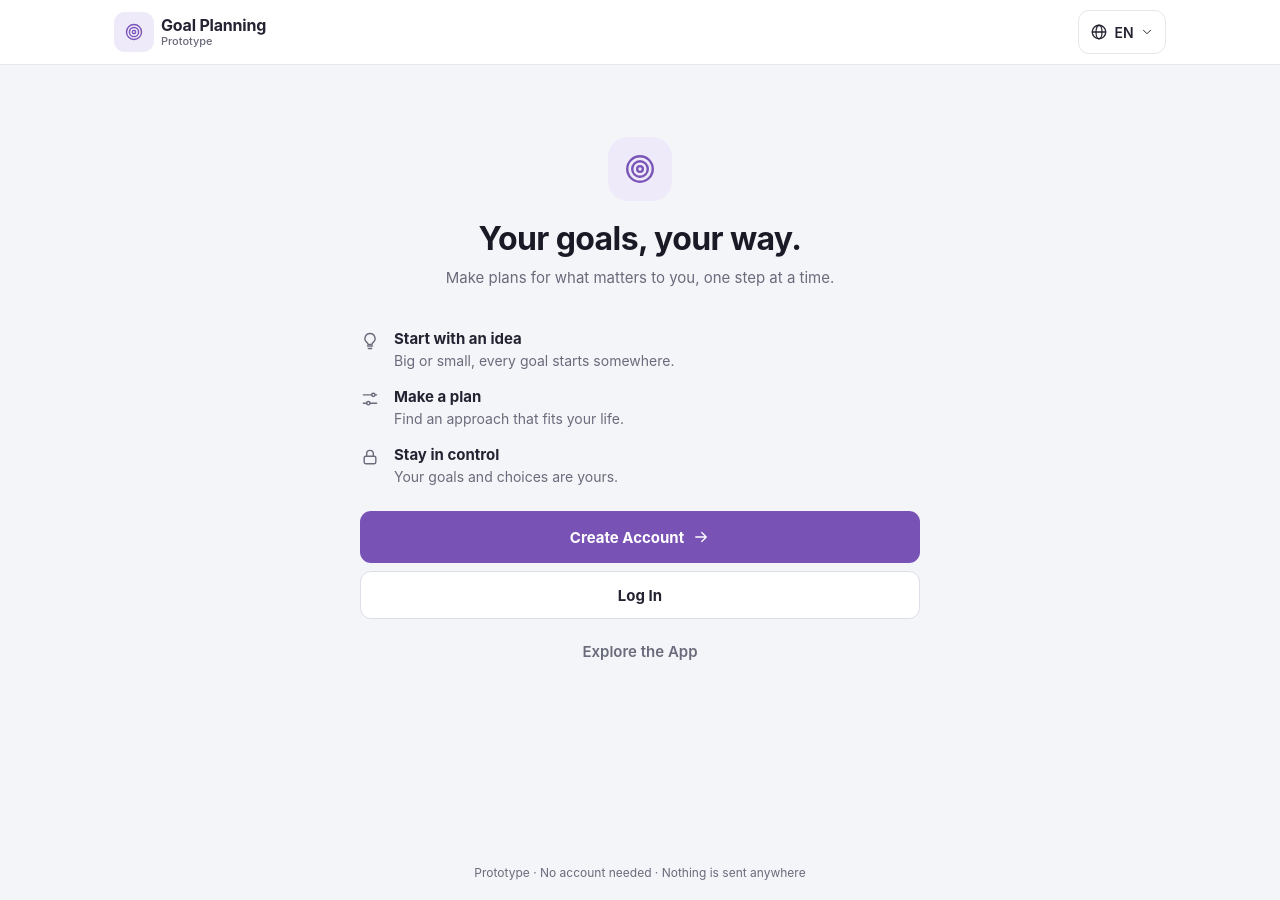
Test case: Bills calendar › says an unknown amount is left out of the totals, and never shows it as 0
Click the button "Explore the App".
click(640, 651)  # box x1=360 y1=627 x2=920 y2=675
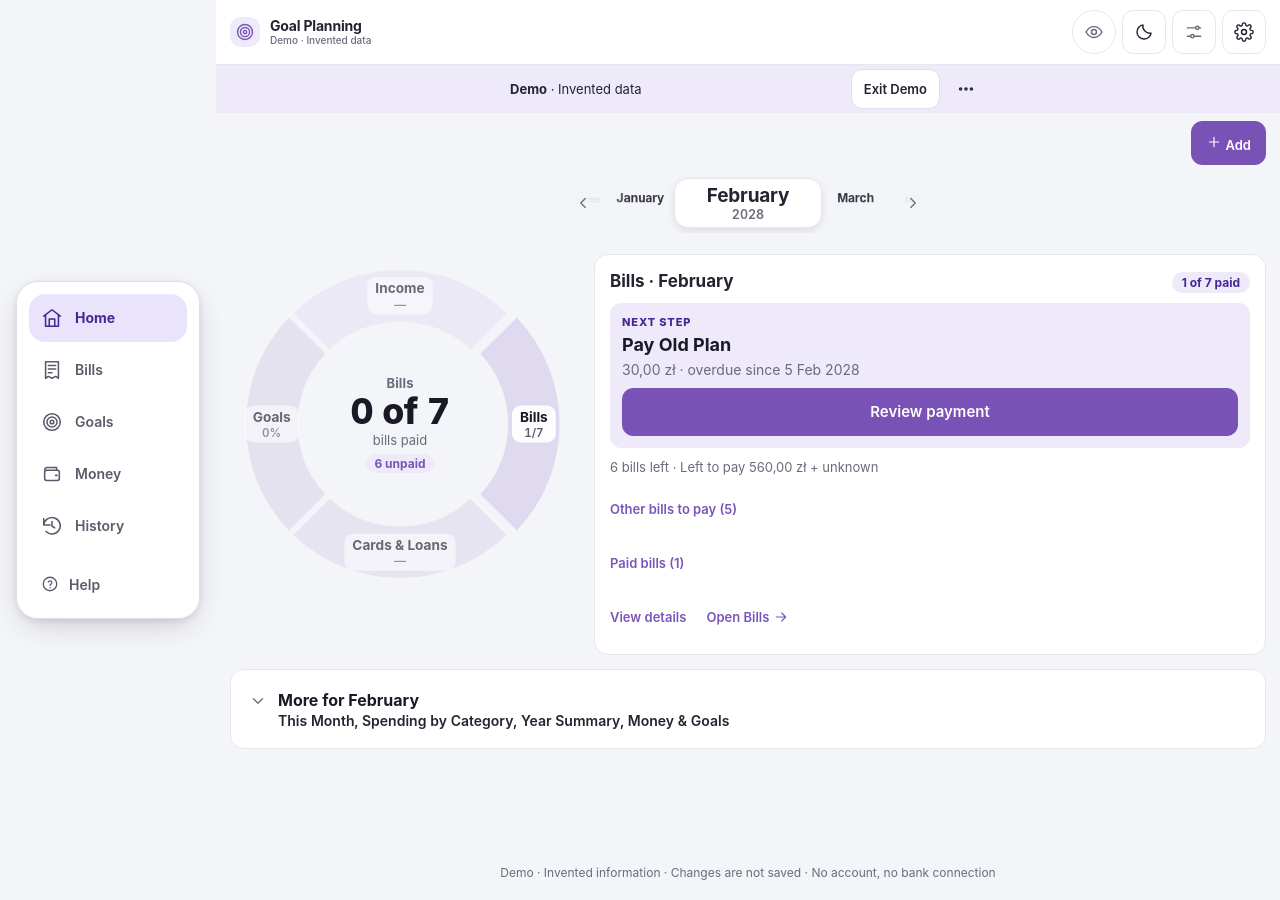
Click the button "Bills".
click(108, 370)  # box x1=29 y1=346 x2=187 y2=394
(page scrolled)
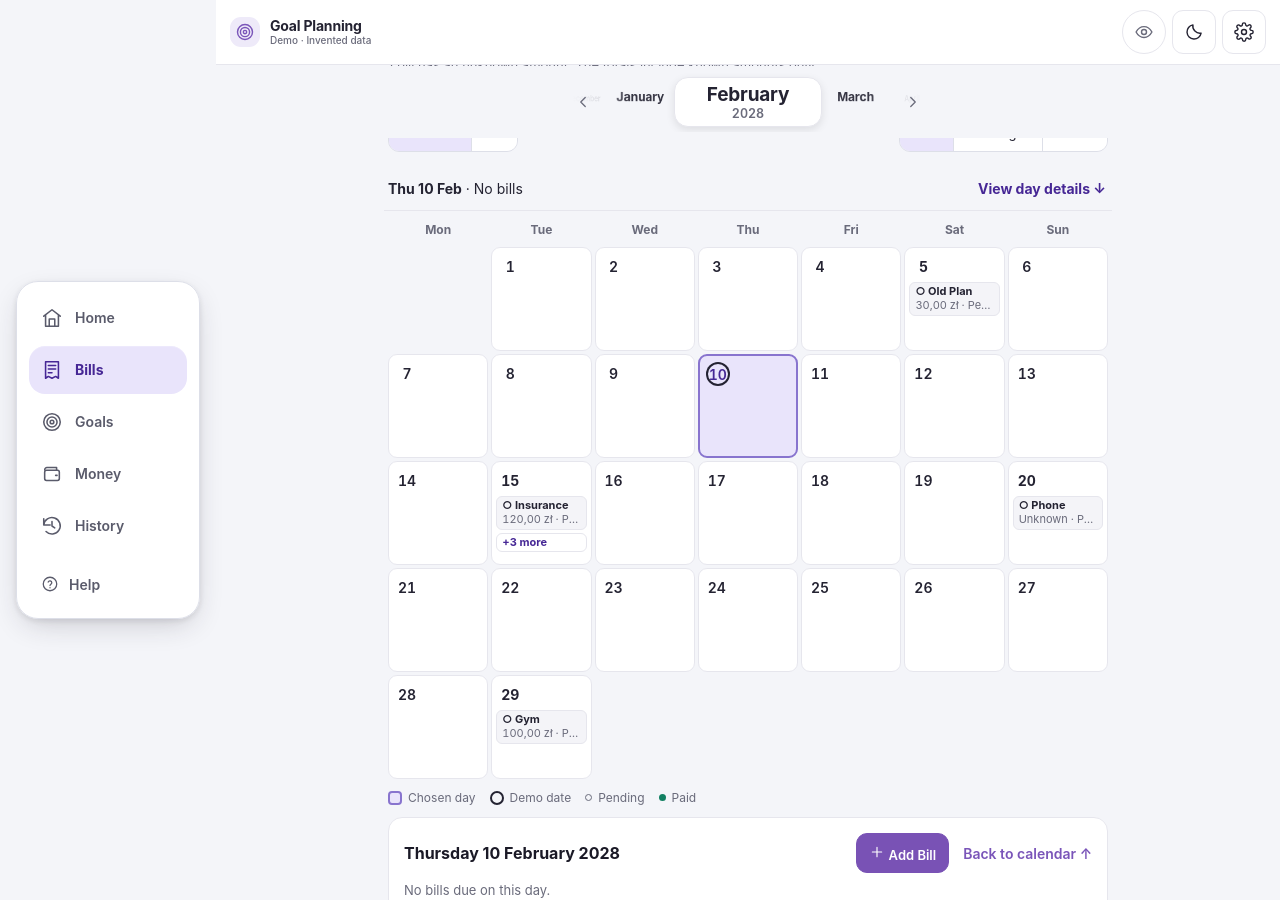
Check: the text "1 bill has an unknown amount. The totals include known amounts only." is shown, box x1=388 y1=56 x2=818 y2=72
